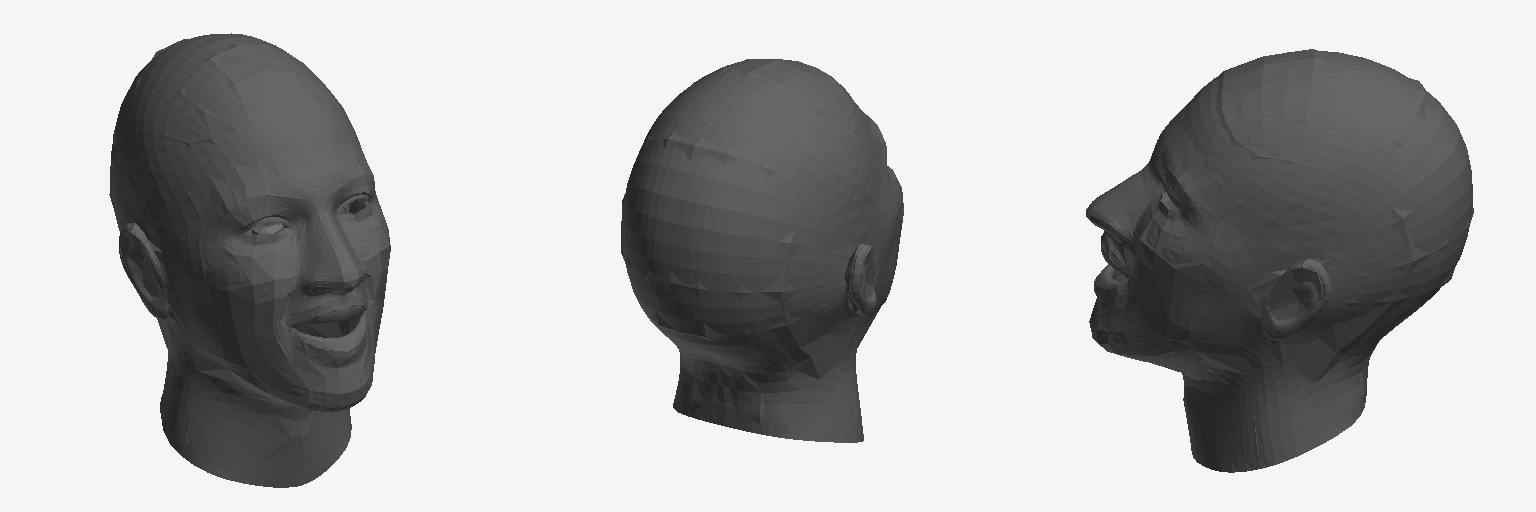
File: happy.obj
3 renders of one model, left to right at view 1: azimuth 30°, elevation 25°; view 2: azimuth 150°, elevation 25°; view 3: azimuth 270°, elevation 25°, orthographic.
Parts seen in each view (by area): view 1: skin_hi.003, skin_lo.003; view 2: skin_hi.003, skin_lo.003; view 3: skin_hi.003, skin_lo.003.
Boxes of the visible parts, x1=… form: skin_hi.003: x1=112, y1=33, x2=389, y2=487; skin_lo.003: x1=109, y1=39, x2=390, y2=467; skin_hi.003: x1=622, y1=60, x2=902, y2=442; skin_lo.003: x1=621, y1=59, x2=903, y2=426; skin_hi.003: x1=1093, y1=51, x2=1472, y2=472; skin_lo.003: x1=1086, y1=49, x2=1473, y2=465.
Size of the model in its own units: 15.2 by 24.88 by 22.09.